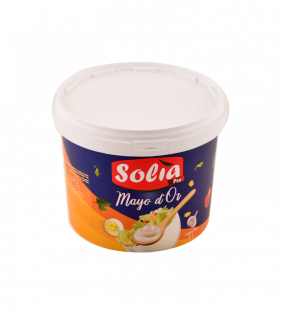SOLIA: (47, 56, 235, 257)
